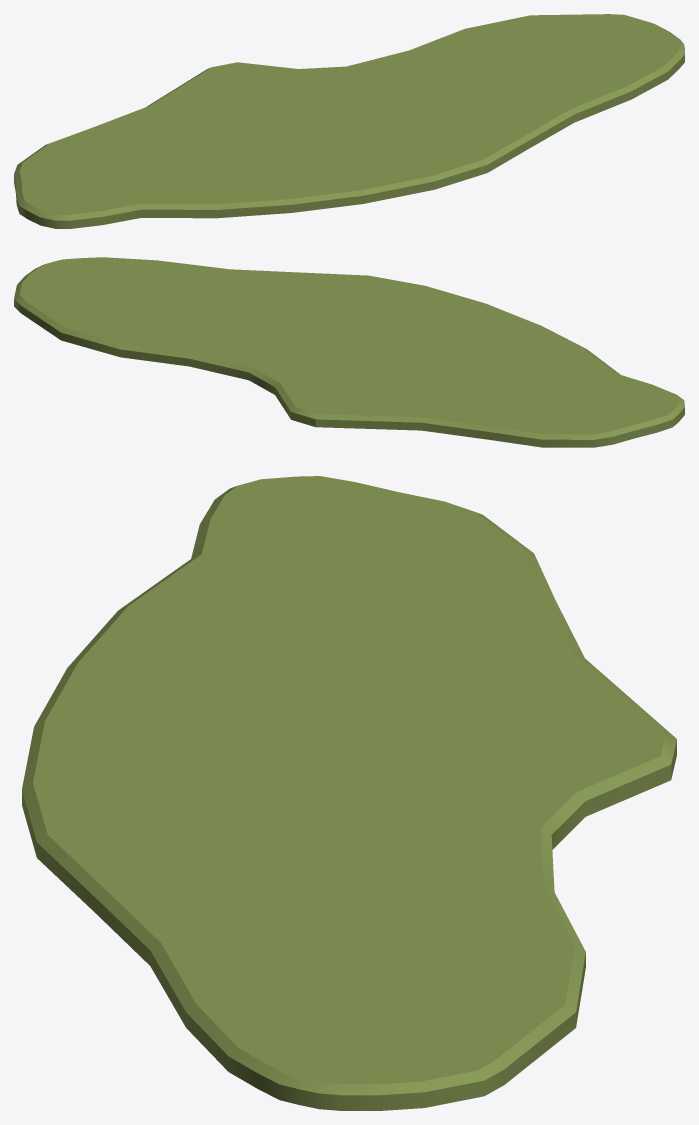
The model's file is carpet_02 1.fbx.
The picture shows the model from 3 angles, top to bottom: view 1: azimuth 30°, elevation 25°; view 2: azimuth 150°, elevation 25°; view 3: azimuth 270°, elevation 25°; orthographic projection. The views are drawn at different scales.
Visible parts, largest first — view 1: ground10:pPlane1; view 2: ground10:pPlane1; view 3: ground10:pPlane1.
Part boxes in pixels (x1=…): ground10:pPlane1: x1=14, y1=14, x2=684, y2=228; ground10:pPlane1: x1=14, y1=257, x2=684, y2=447; ground10:pPlane1: x1=22, y1=476, x2=676, y2=1110.
Bounding box in the file's own units: 174 × 2.9 × 78.06.
